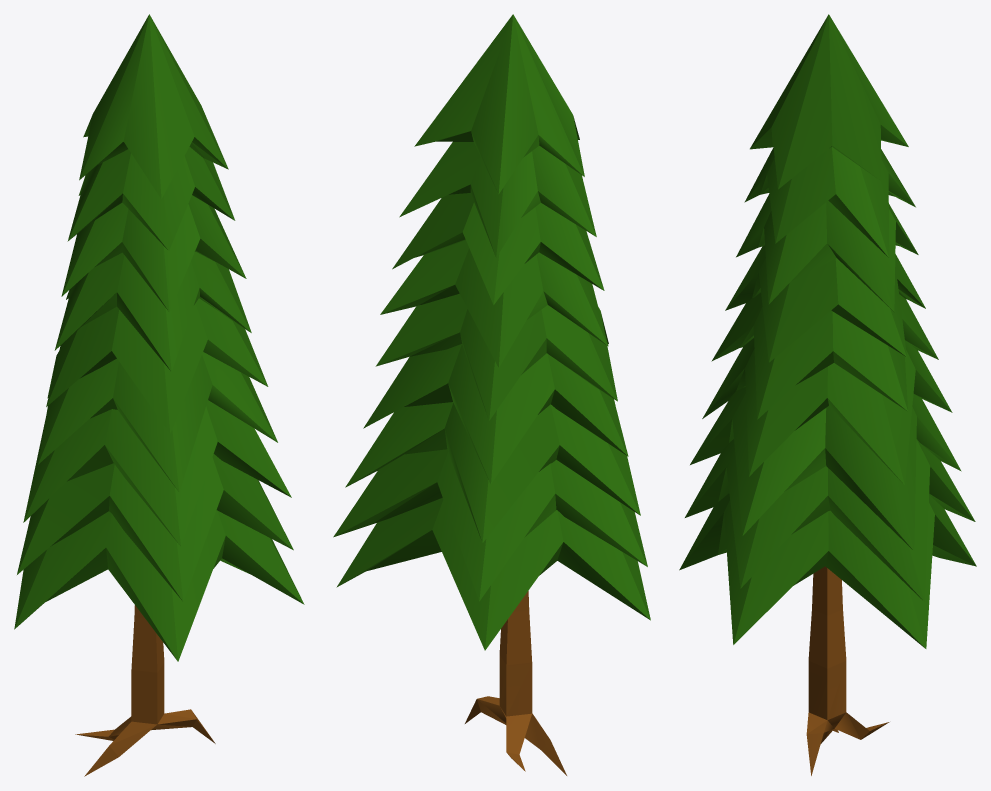
File: tree.fbx
3 views of the same model, side by side, from view 1: azimuth 30°, elevation 25°; view 2: azimuth 150°, elevation 25°; view 3: azimuth 270°, elevation 25° (orthographic).
Parts seen in each view (by area): view 1: TreeModel31776846; view 2: TreeModel31776846; view 3: TreeModel31776846.
Boxes of the visible parts, x1,y1,x2,y2 form: TreeModel31776846: [14, 14, 304, 776]; TreeModel31776846: [333, 14, 650, 775]; TreeModel31776846: [679, 14, 976, 775].
Bounding box in the file's own units: 507 × 1345 × 485.
